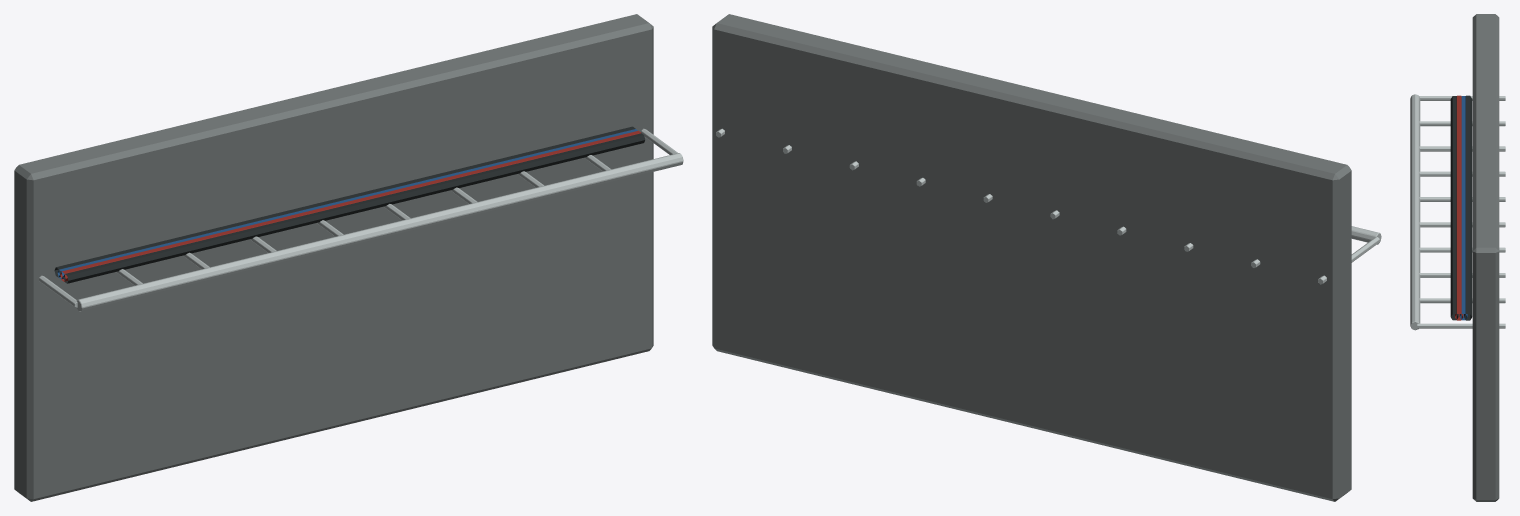
Rendered from runtime.glb.
3 renders of one model, left to right at view 1: azimuth 30°, elevation 25°; view 2: azimuth 150°, elevation 25°; view 3: azimuth 270°, elevation 25°, orthographic. The views are drawn at different scales.
Parts seen in each view (by area): view 1: reactor-cable-tray-v01_nocol; view 2: reactor-cable-tray-v01_nocol; view 3: reactor-cable-tray-v01_nocol.
Boxes of the visible parts, bbox=[...] form: reactor-cable-tray-v01_nocol: bbox=[14, 14, 683, 501]; reactor-cable-tray-v01_nocol: bbox=[712, 14, 1381, 501]; reactor-cable-tray-v01_nocol: bbox=[1410, 14, 1505, 501].
Size of the model in its own units: 5 by 2.5 by 0.8469.
